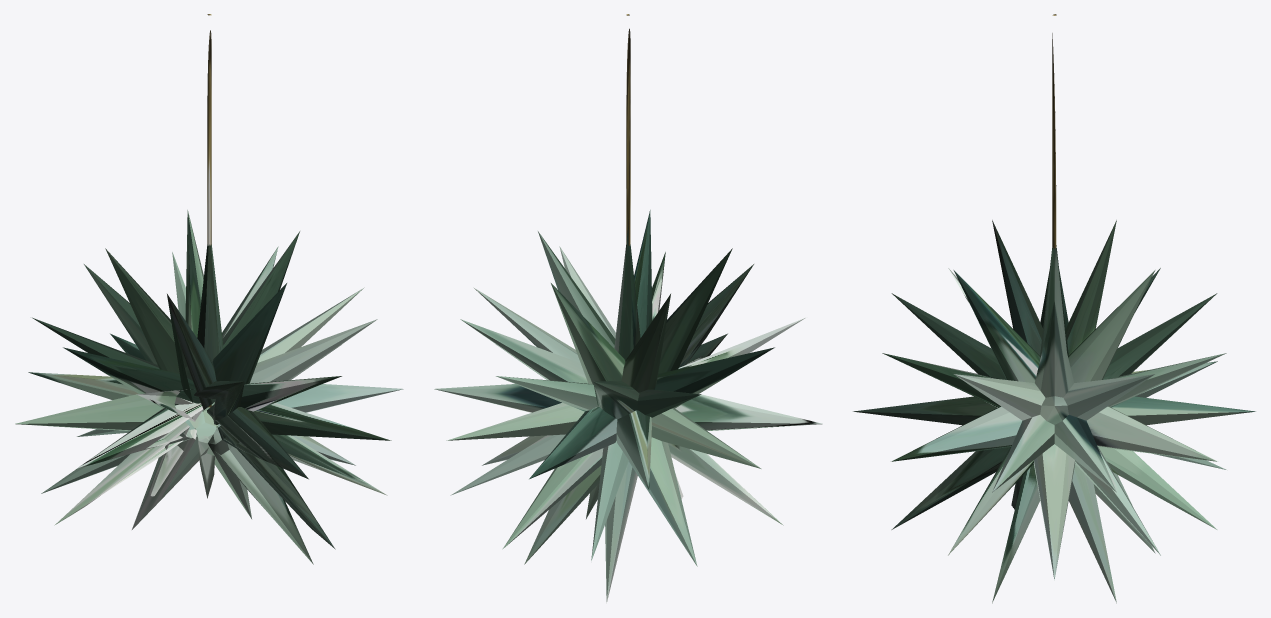
File: Stea.fbx
3 renders of one model, left to right at view 1: azimuth 30°, elevation 25°; view 2: azimuth 150°, elevation 25°; view 3: azimuth 270°, elevation 25°, orthographic.
Visible parts, largest first — view 1: Icosphere, Cylinder; view 2: Icosphere, Cylinder; view 3: Icosphere, Cylinder.
Part boxes in pixels (x1=…): Icosphere: x1=15, y1=210, x2=403, y2=564; Cylinder: x1=207, y1=14, x2=211, y2=407; Icosphere: x1=434, y1=210, x2=822, y2=602; Cylinder: x1=626, y1=14, x2=630, y2=245; Icosphere: x1=853, y1=220, x2=1255, y2=603; Cylinder: x1=1052, y1=14, x2=1056, y2=248.
Bounding box in the file's own units: 176 × 293 × 185.
2 materials, 2 textured.
